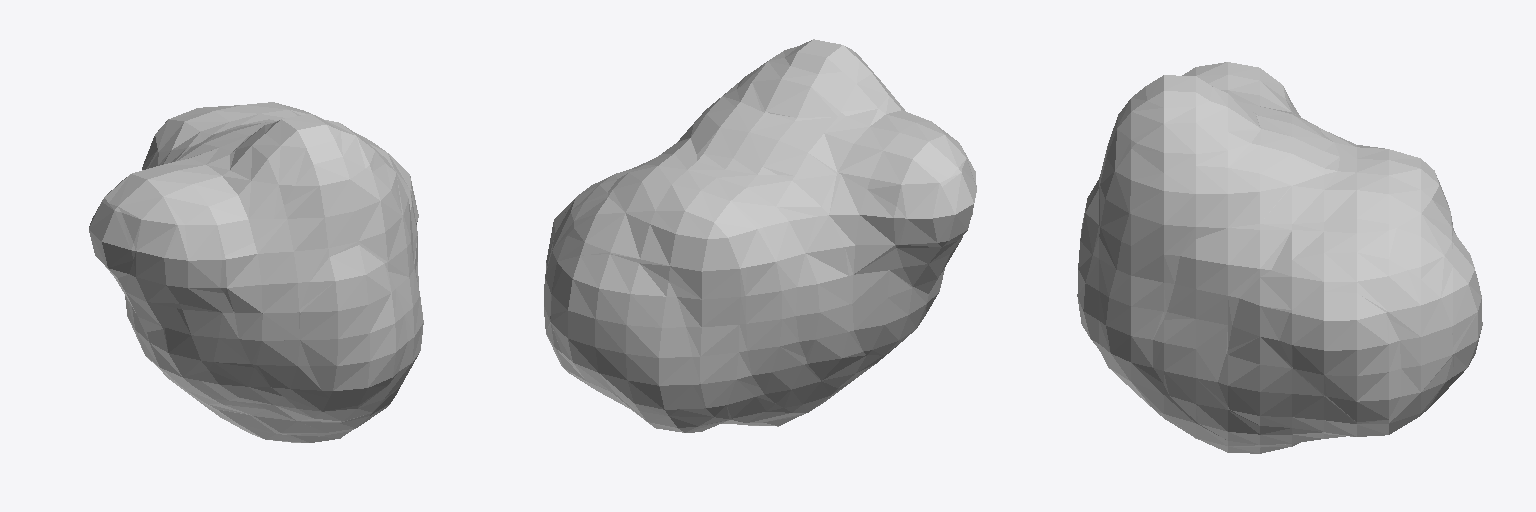
File: 2ife_cms.obj
The picture shows the model from 3 angles: view 1: azimuth 30°, elevation 25°; view 2: azimuth 150°, elevation 25°; view 3: azimuth 270°, elevation 25°; orthographic projection.
Bounding box in the file's own units: 49.5 × 45.28 × 48.18.